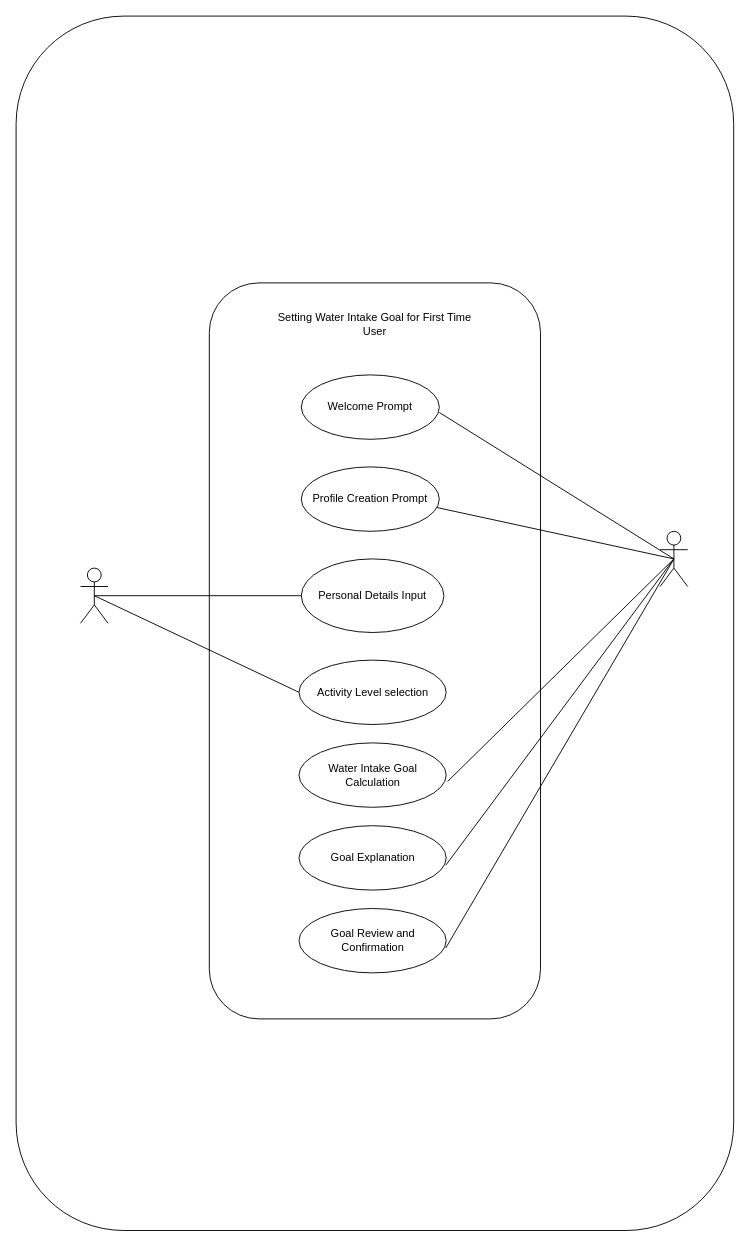
This 750x1247 diagram has some shape labels left out. The shapes that lost their labels are listed below. From the top down, each one's box as (x1, y1, x2, y2) in pixels, then its label:
(659, 530, 688, 586): Waterlog Application
(80, 567, 108, 623): User
